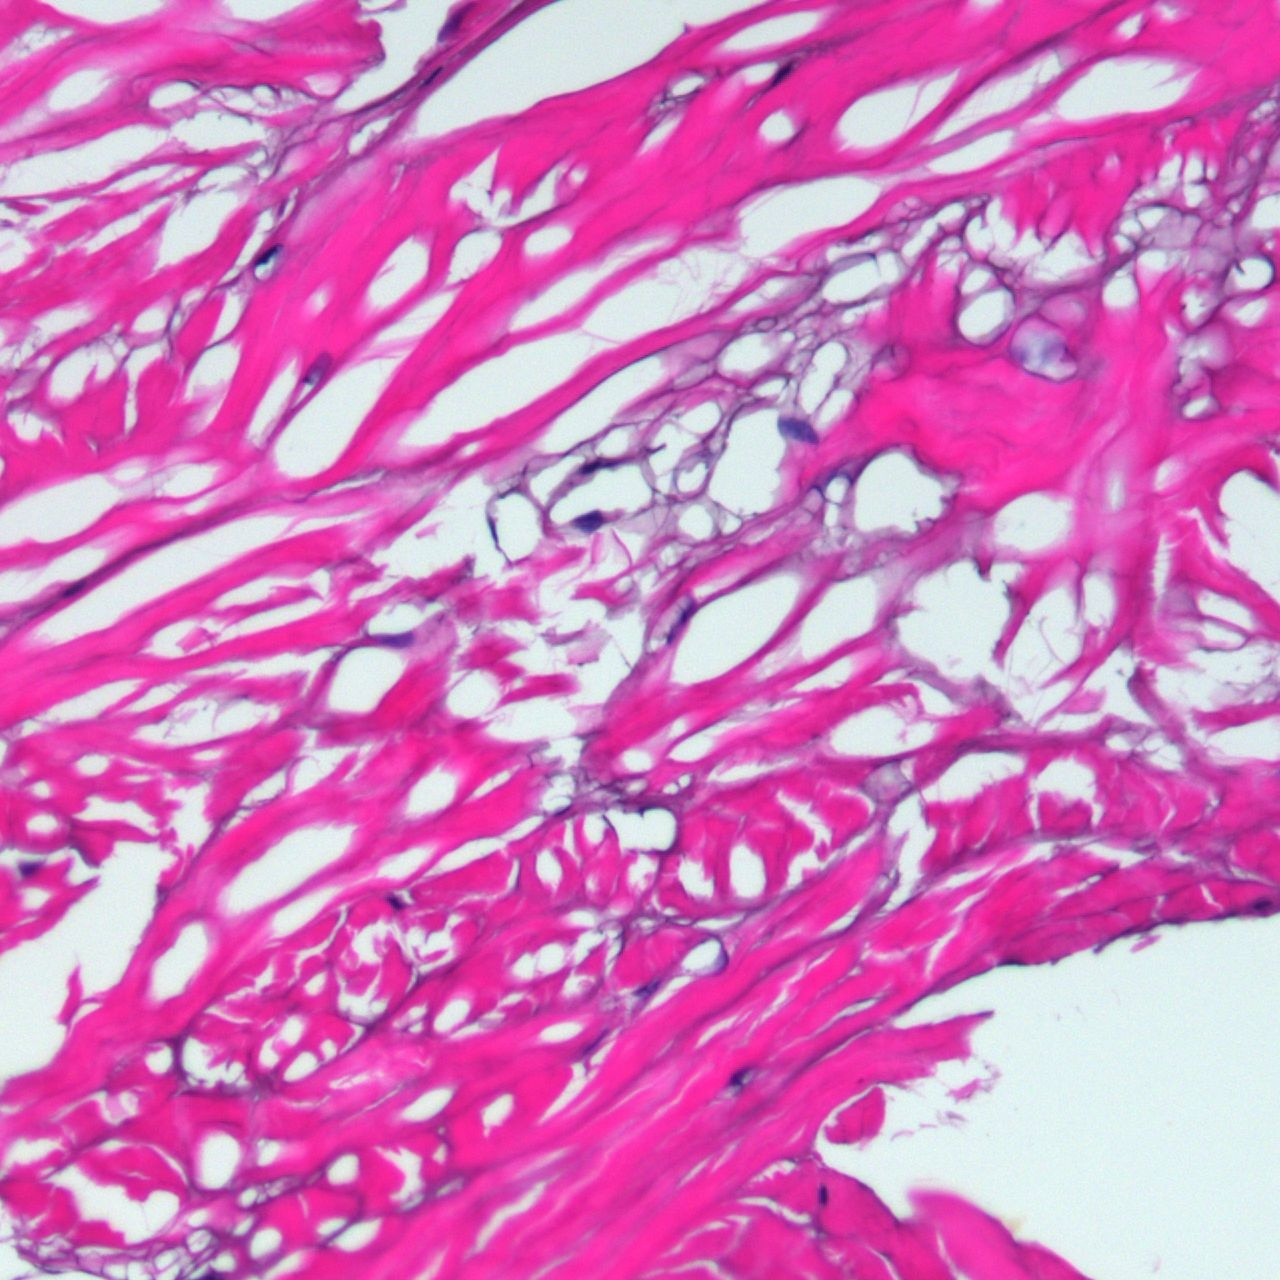dust: (1002, 1206, 1036, 1240)
nucleus-HE: (770, 409, 821, 450), (762, 57, 797, 91), (250, 239, 286, 270), (725, 1060, 755, 1090), (572, 508, 604, 532), (383, 889, 408, 914), (578, 457, 616, 473), (17, 862, 38, 877), (817, 1181, 829, 1207), (1253, 899, 1272, 910), (679, 609, 688, 623)
